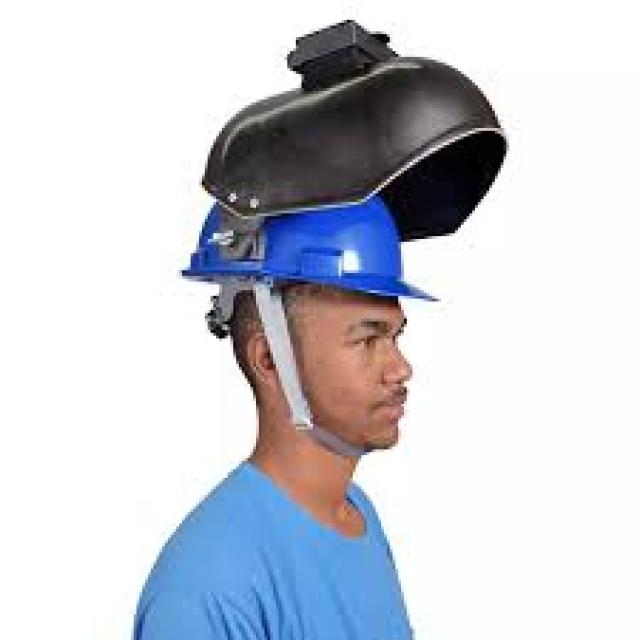helmet_lifted: (158, 26, 519, 452)
